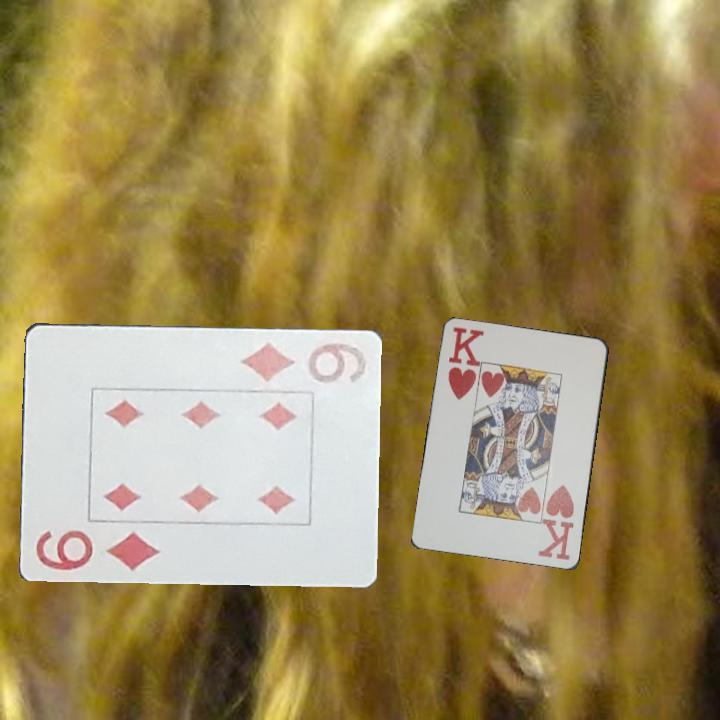6d: (237, 338, 372, 386), (31, 526, 163, 573)
Kh: (537, 481, 578, 563), (444, 323, 483, 403)
